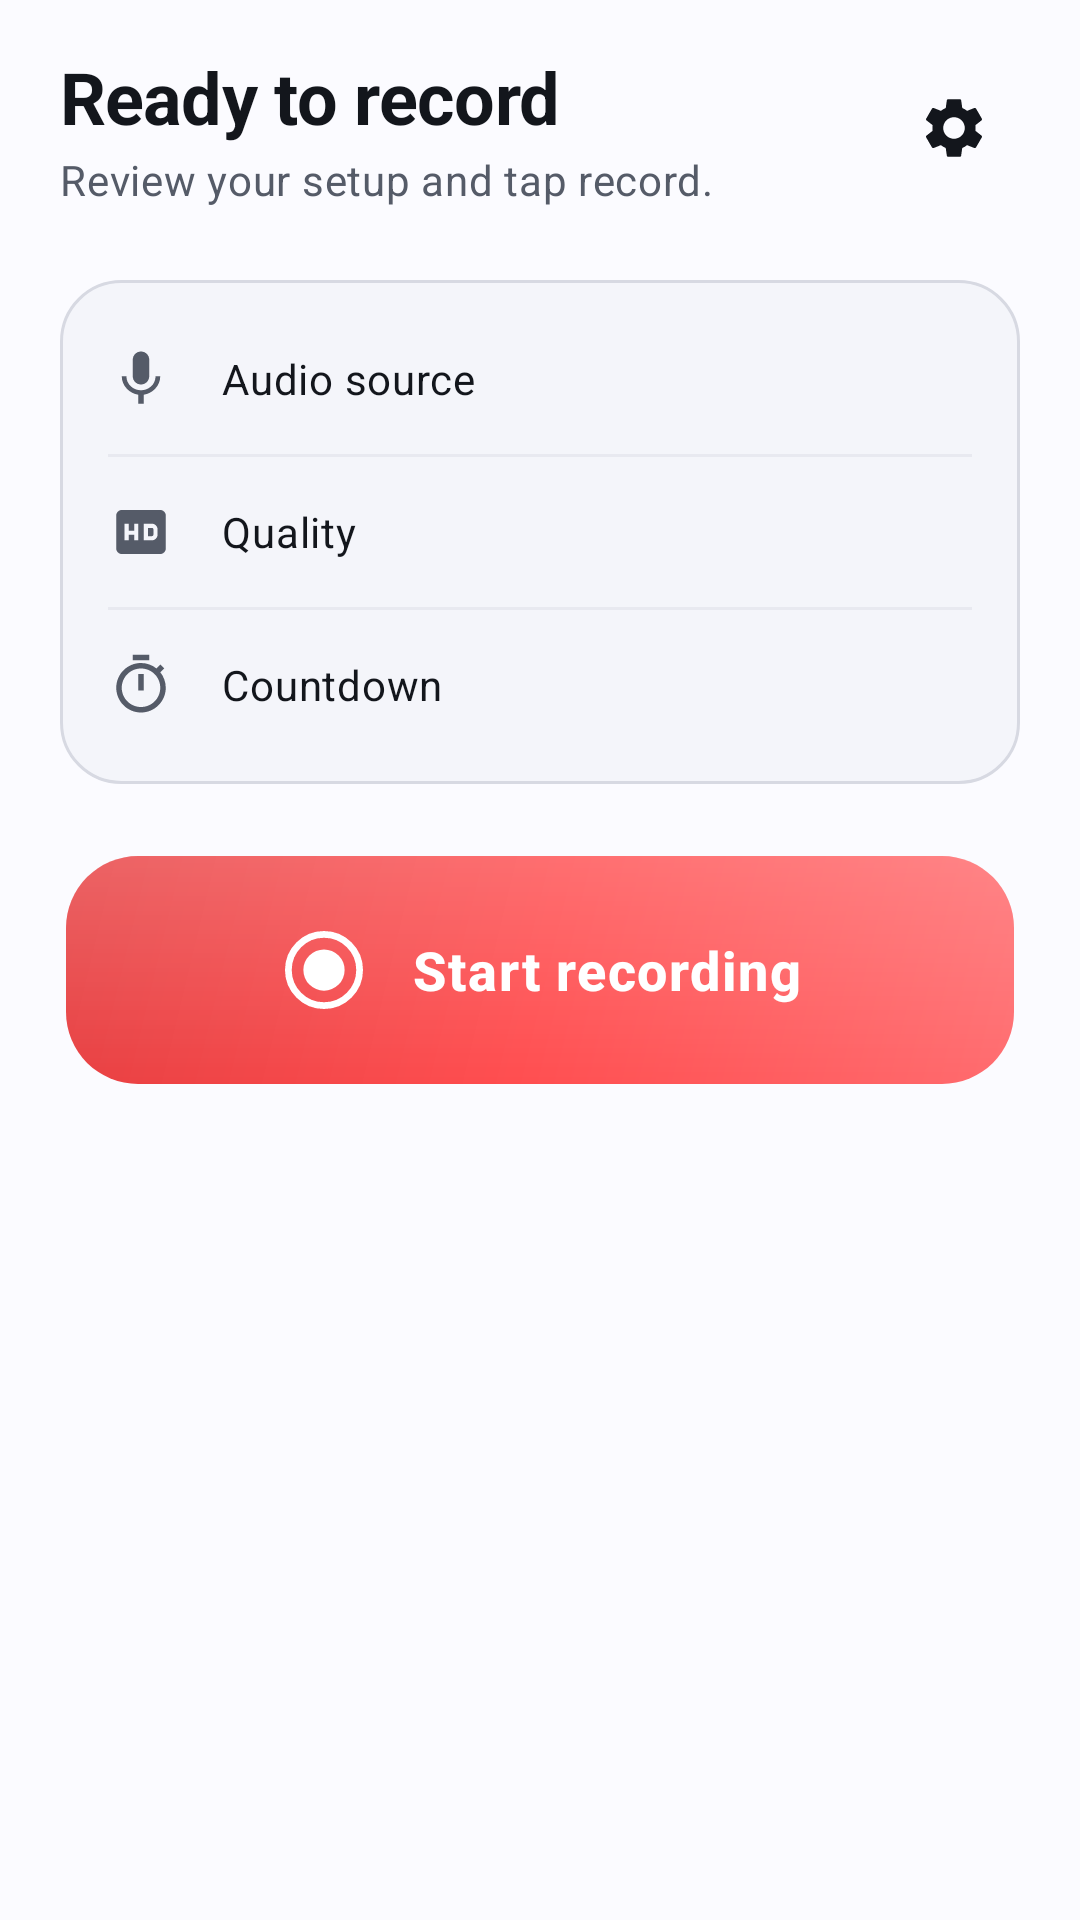

Screen size 1080*1920. Icon name, then its box in pixels as [x1=x1, y1=y1, x2=x2, y2=y2]:
mic: [x1=121, y1=351, x2=161, y2=404]
Settings: [x1=926, y1=99, x2=982, y2=157]
timer: [x1=116, y1=654, x2=166, y2=713]
